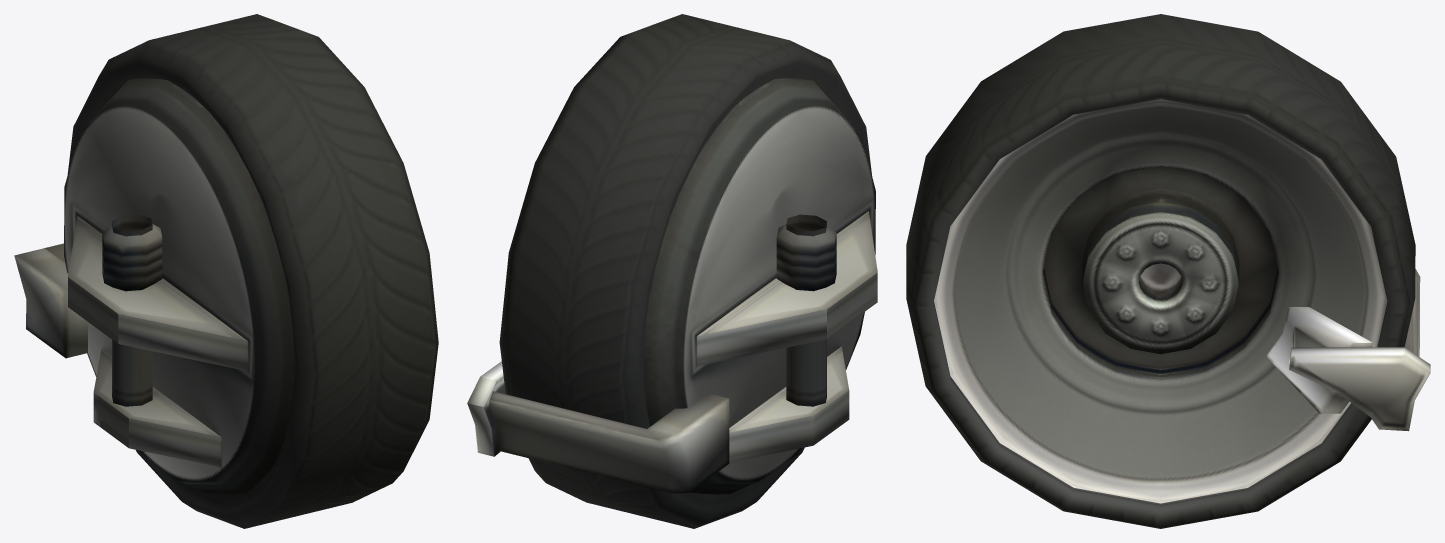
File: Rightwheel.obj
3 views of the same model, side by side, from view 1: azimuth 30°, elevation 25°; view 2: azimuth 150°, elevation 25°; view 3: azimuth 270°, elevation 25° (orthographic).
Parts seen in each view (by area): view 1: RightWheel; view 2: RightWheel; view 3: RightWheel.
Part boxes in pixels (box(x1,y1,x2,y2)): RightWheel: box(14, 14, 438, 528); RightWheel: box(467, 14, 877, 528); RightWheel: box(906, 14, 1430, 528).
Bounding box in the file's own units: 0.8 × 1.39 × 1.43.
1 material, 1 textured.
